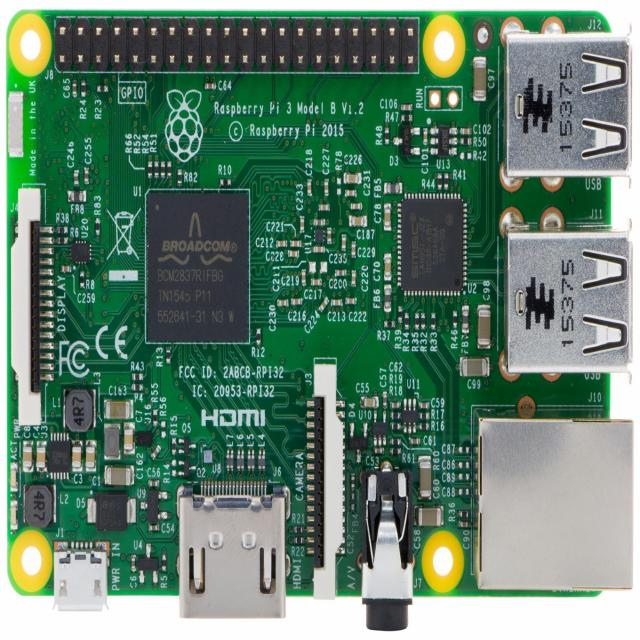Capacitor: (146, 190, 250, 342), (104, 464, 135, 486), (460, 355, 490, 377), (476, 304, 490, 350), (418, 455, 432, 500), (414, 506, 444, 527), (103, 400, 134, 418), (474, 56, 486, 101), (22, 440, 34, 473), (36, 440, 47, 472), (72, 440, 83, 472), (85, 440, 96, 471), (124, 423, 134, 455), (348, 214, 368, 227), (343, 172, 362, 185), (384, 202, 392, 231), (360, 396, 379, 408), (383, 253, 391, 281), (318, 296, 329, 315), (72, 168, 80, 188), (300, 268, 307, 286), (148, 523, 160, 532), (458, 520, 471, 528), (59, 265, 72, 273), (334, 269, 347, 277), (382, 391, 388, 408), (204, 82, 216, 90), (400, 104, 412, 112), (422, 128, 428, 144), (288, 250, 300, 258), (331, 298, 343, 306), (277, 298, 289, 306), (344, 190, 357, 197), (131, 554, 136, 572), (72, 80, 77, 98), (84, 167, 89, 185), (324, 178, 329, 196), (460, 127, 471, 135), (307, 179, 312, 196), (290, 298, 302, 305), (372, 447, 384, 454), (276, 240, 287, 247), (314, 246, 325, 253), (148, 480, 160, 486), (300, 215, 304, 233), (352, 240, 356, 258), (352, 270, 356, 288), (291, 240, 301, 247), (346, 298, 356, 305), (391, 402, 401, 409), (410, 437, 420, 444), (312, 280, 323, 286), (420, 402, 430, 408)
Connector: (471, 402, 633, 590), (54, 14, 419, 73), (506, 229, 632, 374), (505, 32, 630, 178), (178, 484, 286, 619), (6, 184, 54, 425), (170, 402, 212, 638), (362, 470, 412, 631), (53, 540, 110, 610), (425, 86, 462, 110)
Diode: (86, 492, 136, 530), (392, 125, 421, 156), (348, 422, 368, 462)
Ferrite Bead: (67, 190, 86, 203), (384, 284, 392, 312), (384, 182, 402, 194), (462, 306, 469, 334), (350, 472, 356, 491)
IC: (401, 198, 463, 290), (140, 486, 167, 521), (430, 125, 457, 156), (138, 543, 158, 583), (48, 440, 70, 472), (401, 398, 418, 433), (372, 410, 387, 446), (71, 241, 93, 264), (136, 430, 152, 446), (314, 229, 324, 242), (203, 450, 213, 463)
Inductor: (62, 385, 96, 431), (23, 483, 56, 526), (103, 424, 121, 458), (226, 453, 234, 468), (247, 454, 255, 469), (258, 454, 265, 470), (237, 454, 244, 469)
Led: (9, 463, 17, 492), (10, 500, 17, 529)
Pads: (308, 260, 328, 274), (456, 460, 471, 470), (456, 487, 470, 497), (350, 492, 356, 512), (160, 419, 166, 439), (458, 473, 472, 481), (459, 509, 471, 518), (459, 446, 471, 454), (336, 178, 341, 195), (460, 153, 472, 159), (172, 459, 176, 477)
Resistor Network: (95, 84, 108, 93), (219, 177, 232, 186), (152, 408, 158, 427), (130, 384, 144, 392), (94, 217, 100, 235), (166, 161, 172, 178), (401, 114, 413, 122), (384, 320, 396, 328), (256, 327, 261, 346), (81, 81, 86, 99), (160, 161, 165, 179), (444, 172, 449, 190), (437, 172, 442, 190), (79, 271, 84, 289), (293, 526, 304, 534), (390, 438, 401, 446), (384, 128, 389, 145), (431, 312, 436, 329), (460, 138, 472, 145), (56, 225, 68, 232), (56, 238, 68, 245), (154, 162, 159, 178), (177, 169, 182, 185), (398, 306, 403, 322), (404, 312, 409, 328), (414, 313, 419, 329), (420, 412, 430, 420), (418, 423, 429, 430), (453, 310, 457, 329), (166, 346, 170, 365), (148, 160, 152, 178), (172, 436, 176, 454), (294, 537, 304, 544), (391, 423, 401, 430), (390, 448, 400, 455), (162, 555, 166, 572), (390, 412, 401, 418), (421, 314, 425, 329), (132, 374, 143, 379)
Transistor: (178, 436, 196, 456), (178, 458, 195, 477)
Unknown Unlabeled: (8, 91, 24, 157), (150, 444, 161, 461), (326, 228, 332, 244), (351, 202, 362, 210), (318, 203, 330, 210), (341, 234, 346, 250), (314, 220, 324, 227)
